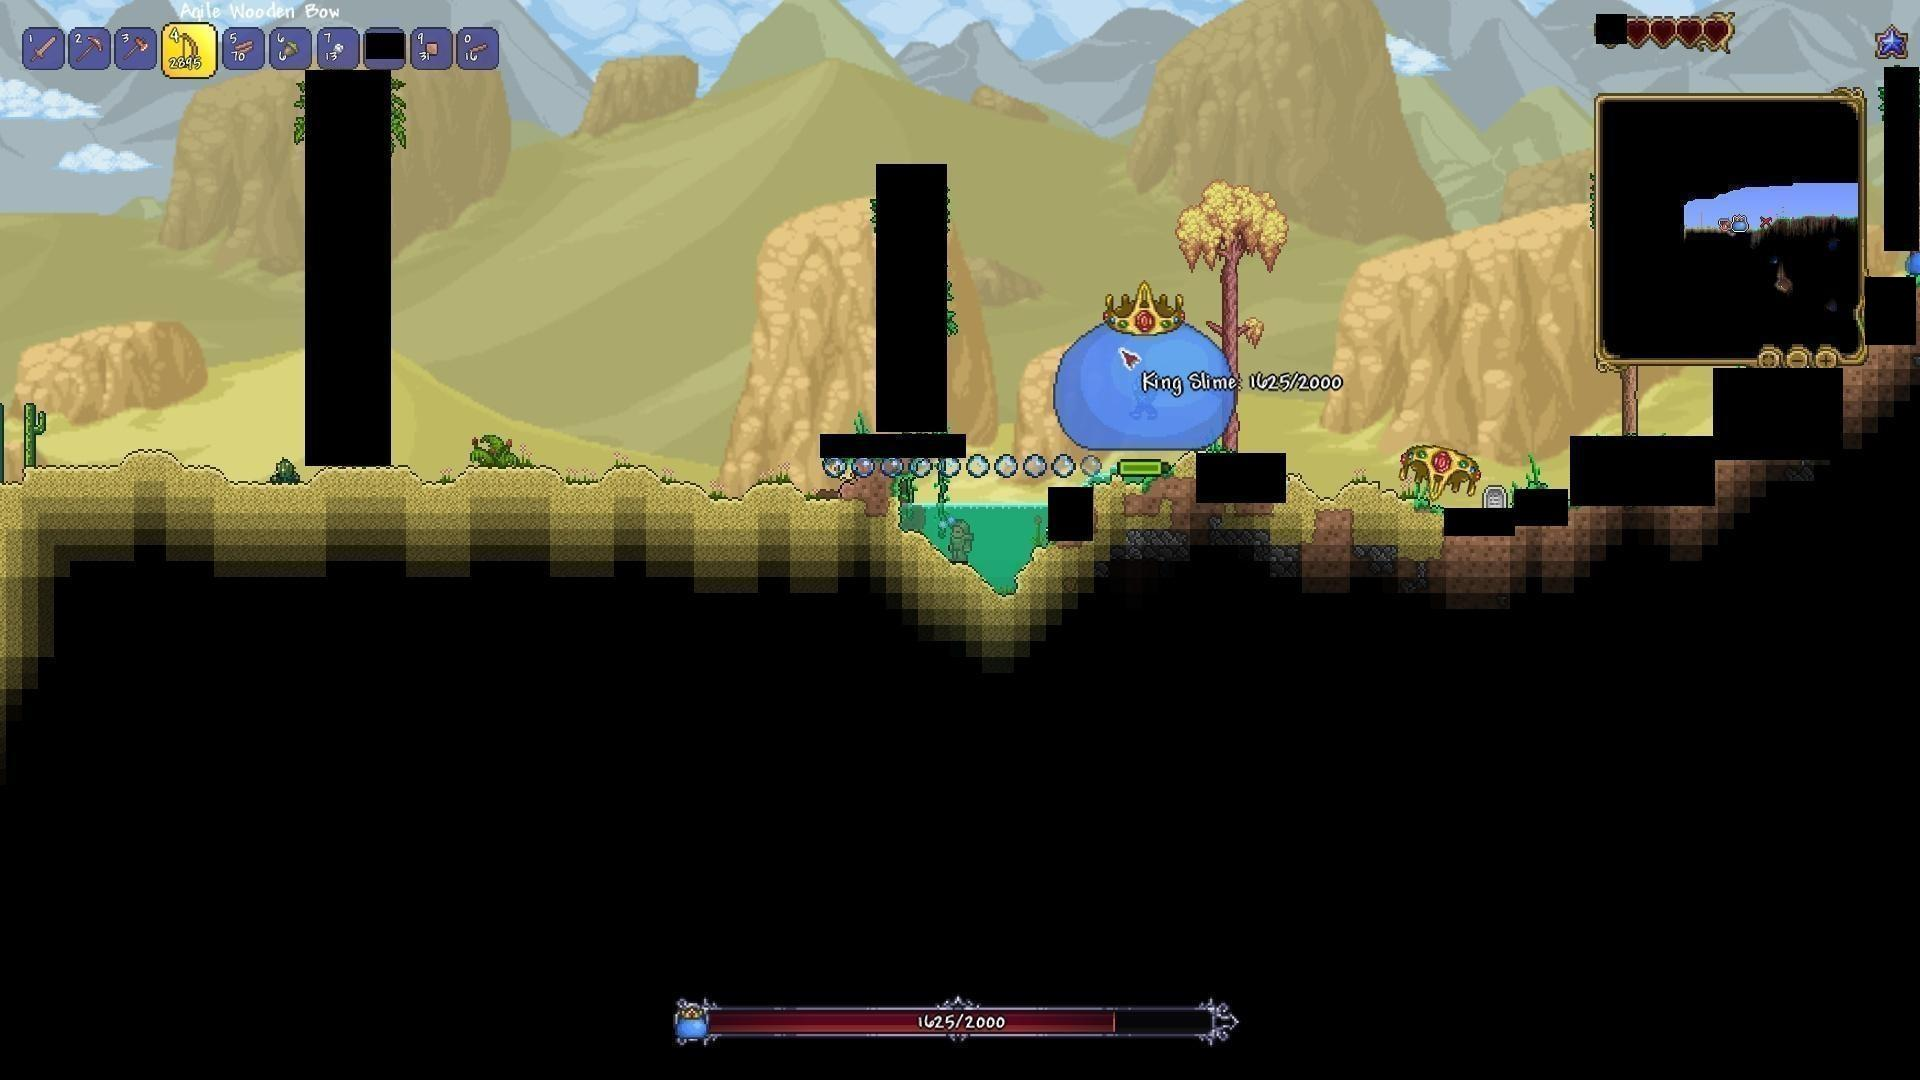tree: (1178, 153, 1276, 454)
wood: (228, 33, 260, 63)
